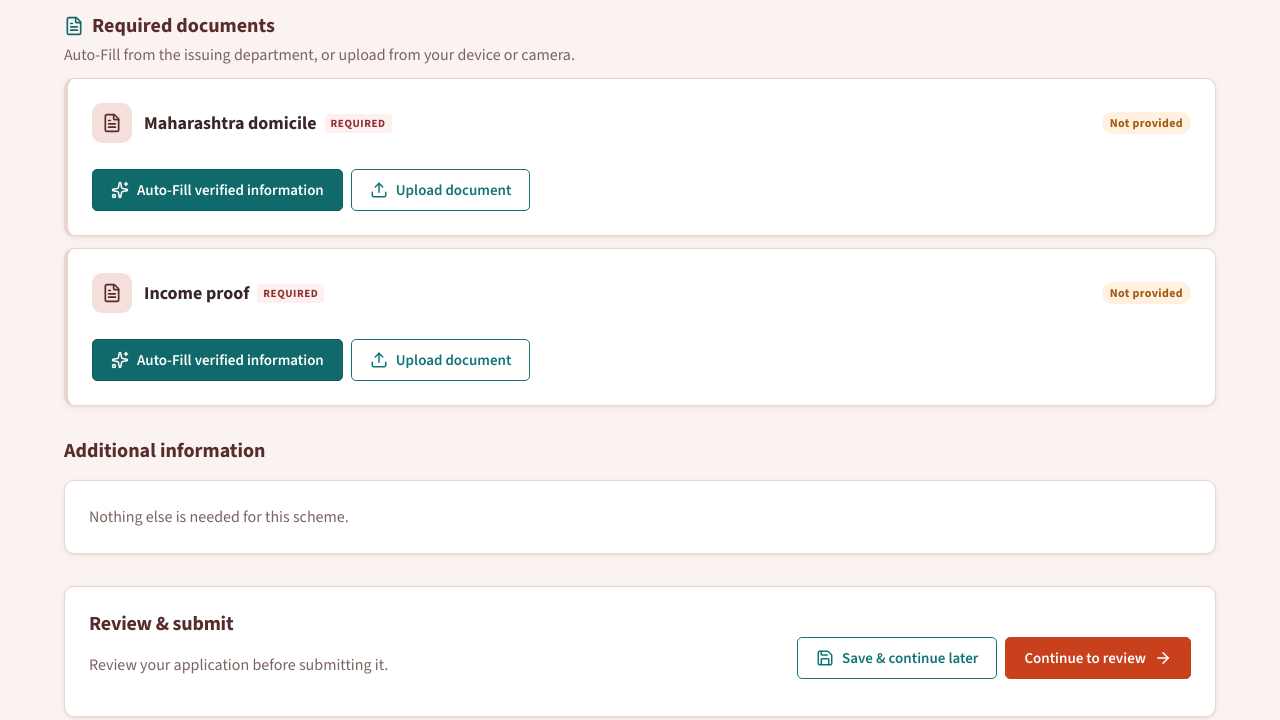
Test case: ApplicationFormPage › with a loaded application › requirement: the consent prompt never names a department, provider or data source
(page scrolled)
Click the button "Auto-Fill verified information" below "Income proof" at (217,360), box [92,340,343,382]
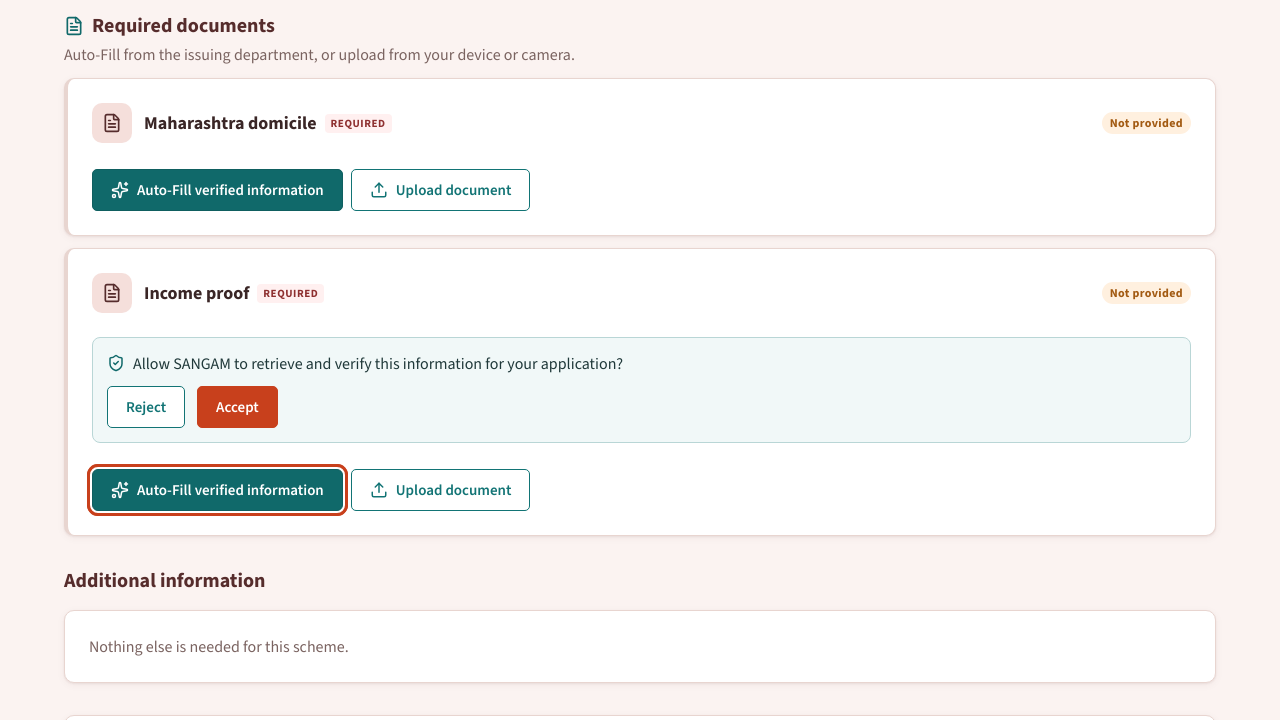
Expected: the heading "Income proof" does not show "Department"
Expected: the button "Accept" is shown, [197,386,278,428]
Expected: the button "Reject" is shown, [107,386,185,428]
